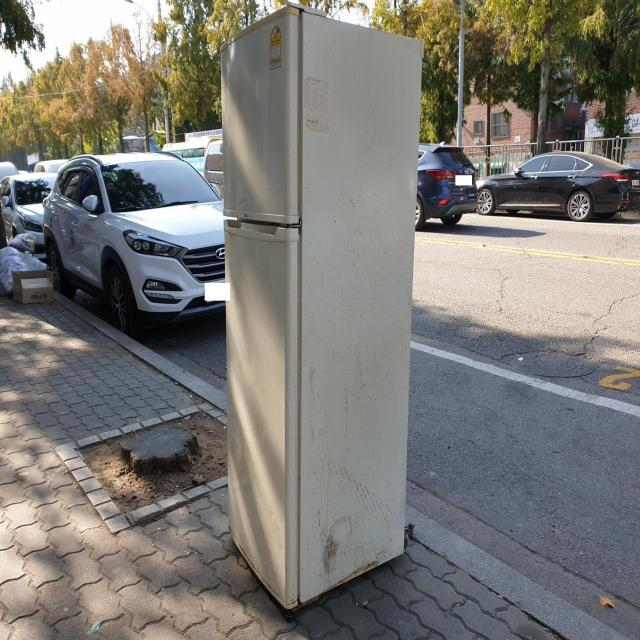refrigerator: (218, 1, 427, 612)
